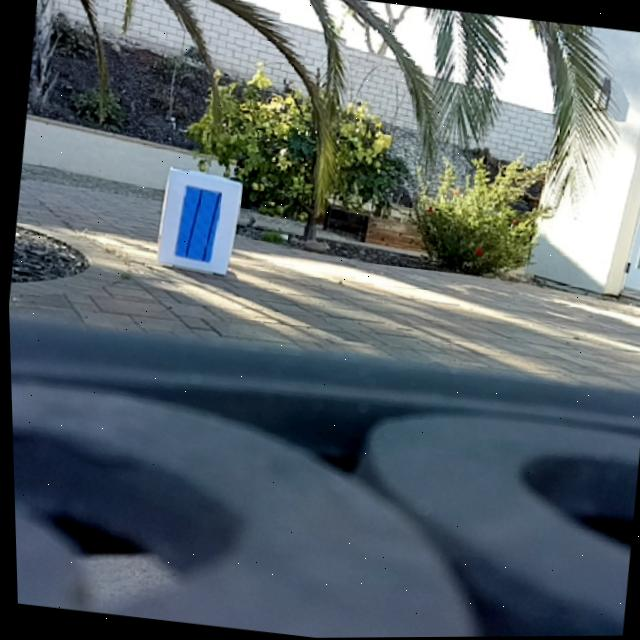led: (170, 184, 220, 265)
